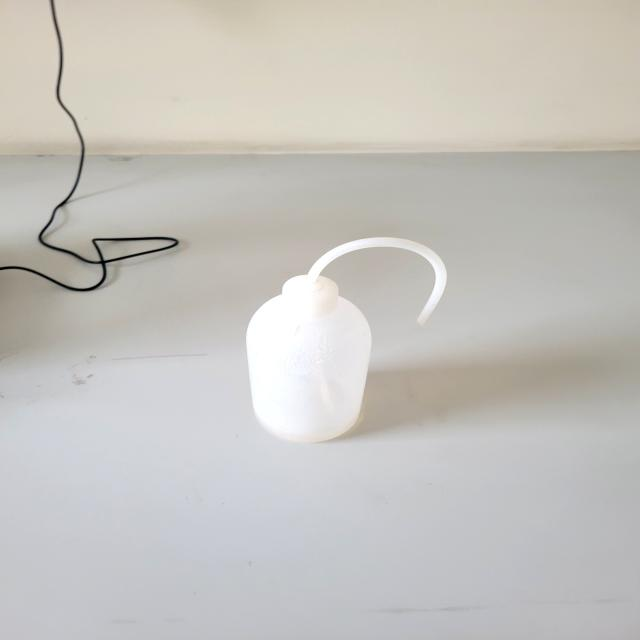Wash_Bottle: (229, 219, 469, 459)
